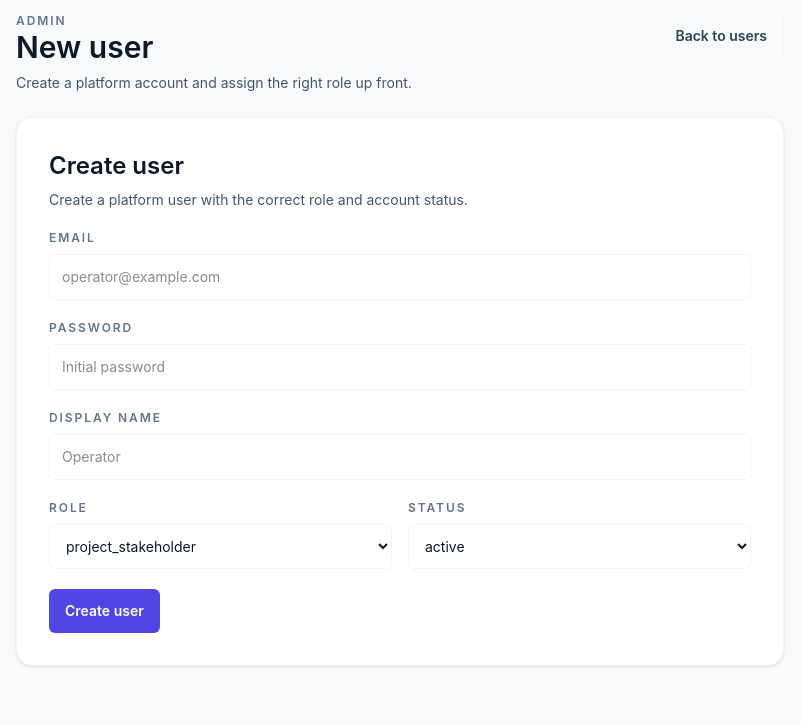
Test: NewUserPage › creates a new user and shows success
Expected: the heading "New user" is shown, [16,29,153,65]
In the field with placeholder "operator@example.com": point(400, 277) [49,254,751,300], type "stakeholder@example.com"
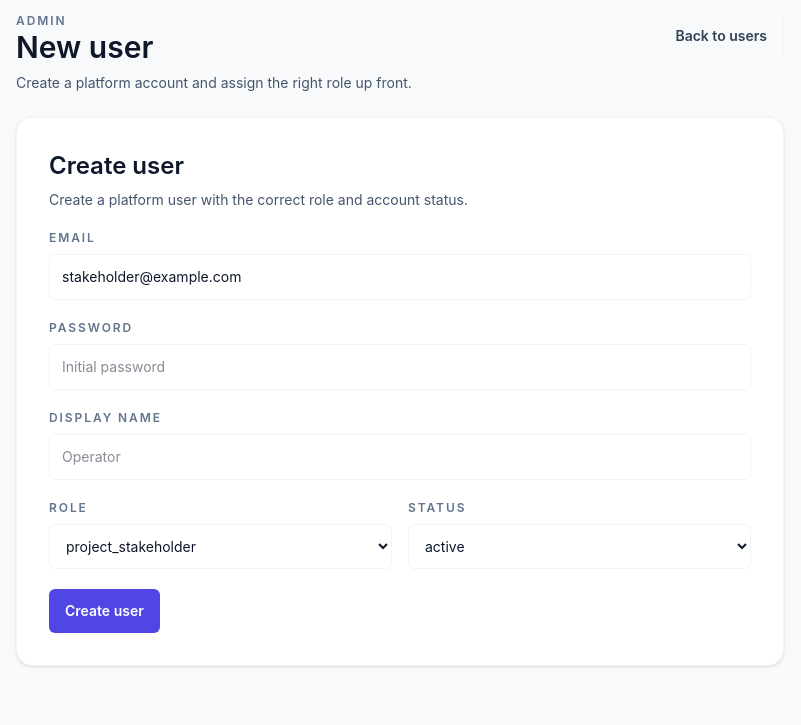
In the password field with placeholder "Initial password": point(400, 367) [49,344,751,390], type "password-123"
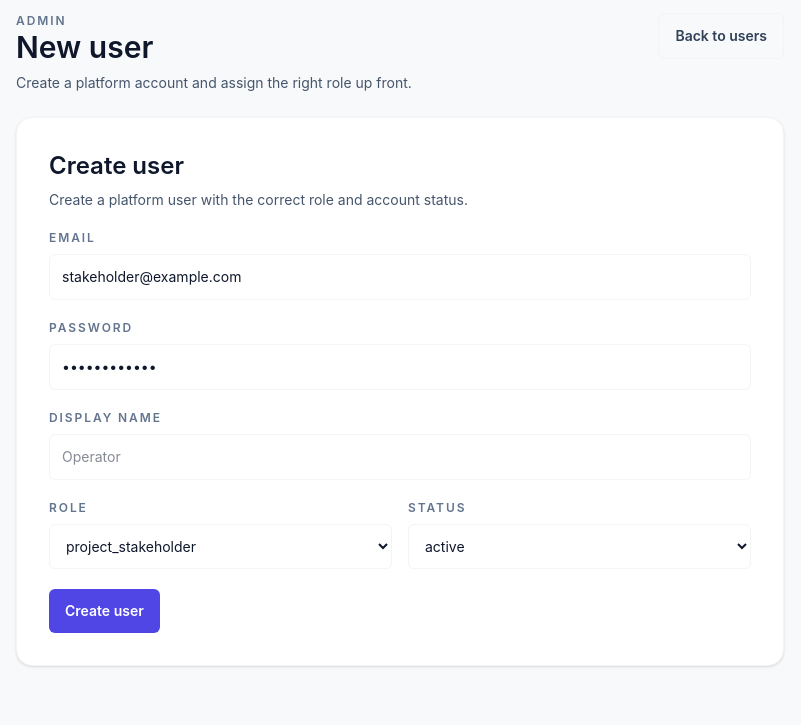
In the field with placeholder "Operator": point(400, 457) [49,434,751,480], type "Stakeholder"
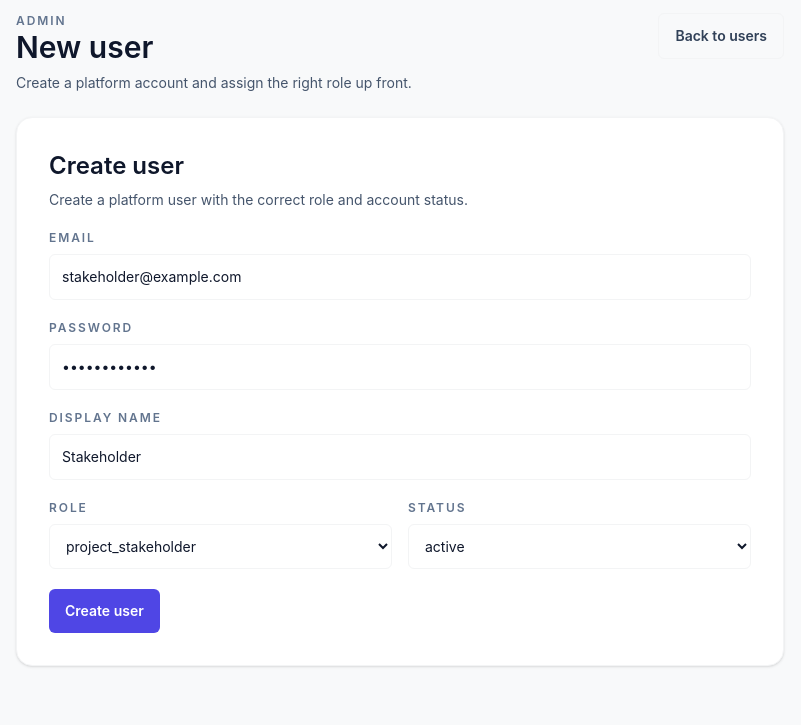
Submit the form "Create user"
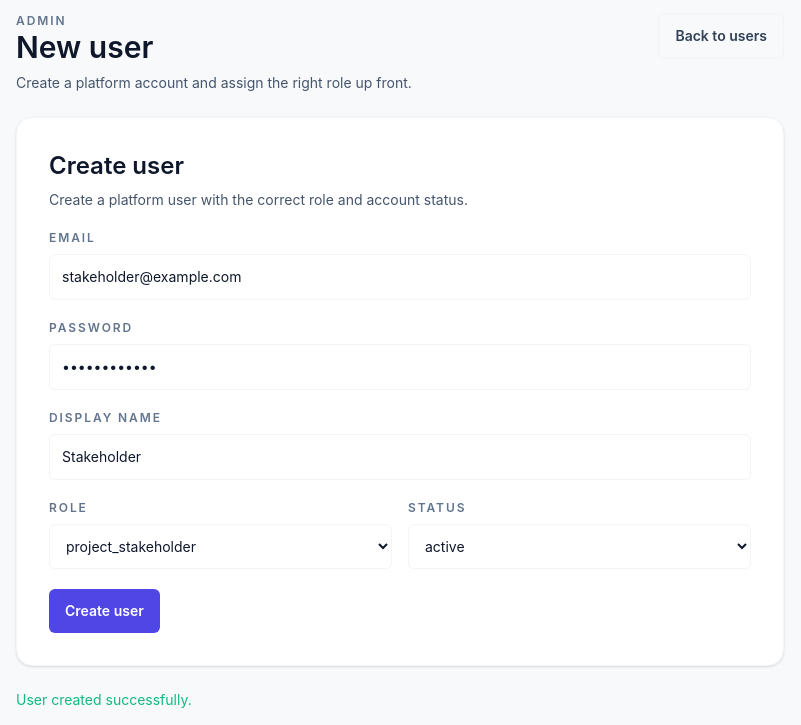
Expected: the text "User created successfully." is shown, [16,691,192,708]
